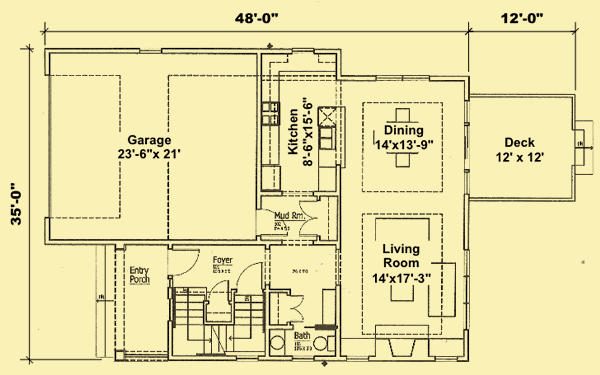dining table: (374, 105, 434, 173)
door: (253, 204, 292, 240), (167, 246, 204, 280), (297, 194, 321, 241), (234, 260, 264, 293), (287, 291, 307, 327), (207, 278, 232, 306)
kitchen bar: (315, 102, 351, 173)
large sink: (313, 333, 337, 353)
small sink: (269, 328, 285, 355)
stairs: (172, 287, 267, 361)
windows: (371, 71, 434, 87), (461, 247, 472, 332), (460, 118, 475, 175), (344, 353, 372, 365), (432, 353, 460, 364)
